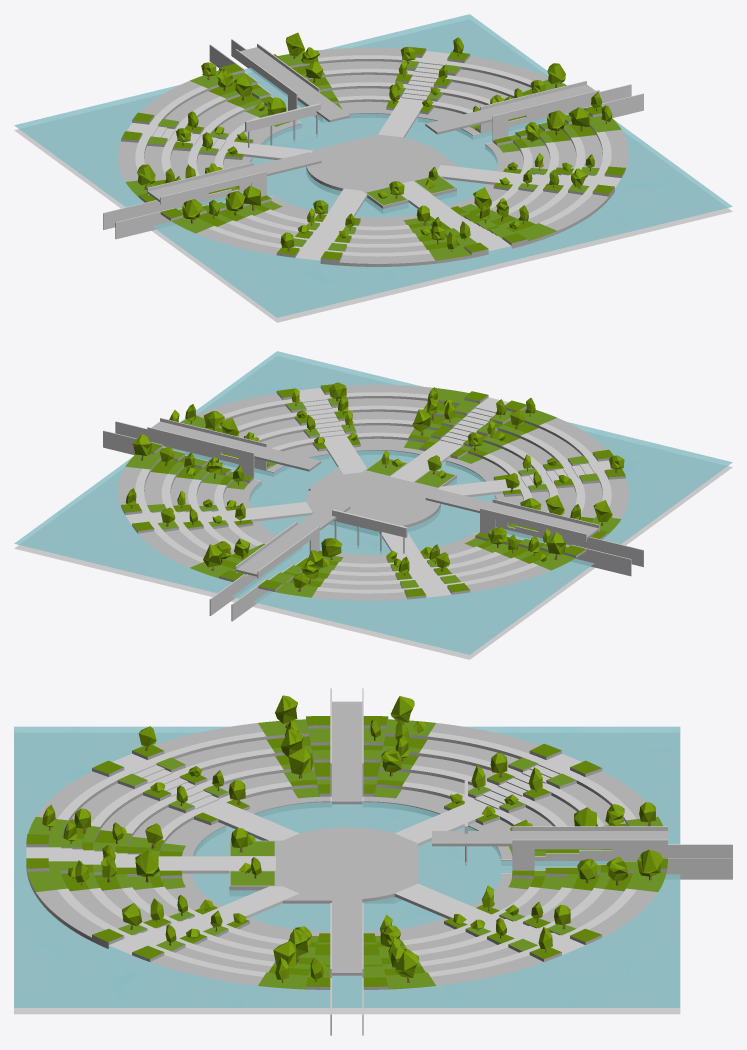
File: theatre_terrain.glb
3 renders of one model, top to bottom at view 1: azimuth 30°, elevation 25°; view 2: azimuth 150°, elevation 25°; view 3: azimuth 270°, elevation 25°, orthographic. The views are drawn at different scales.
Visible parts, largest first — view 1: THEATRE_TERRAIN_MOD; view 2: THEATRE_TERRAIN_MOD; view 3: THEATRE_TERRAIN_MOD.
Boxes of the visible parts, box(x1,y1,x2,y2) form: THEATRE_TERRAIN_MOD: box(14, 14, 732, 322); THEATRE_TERRAIN_MOD: box(14, 351, 732, 659); THEATRE_TERRAIN_MOD: box(14, 688, 732, 1035).
Bounding box in the file's own units: 10426 × 768 × 9713.
8 materials, 1 textured.
